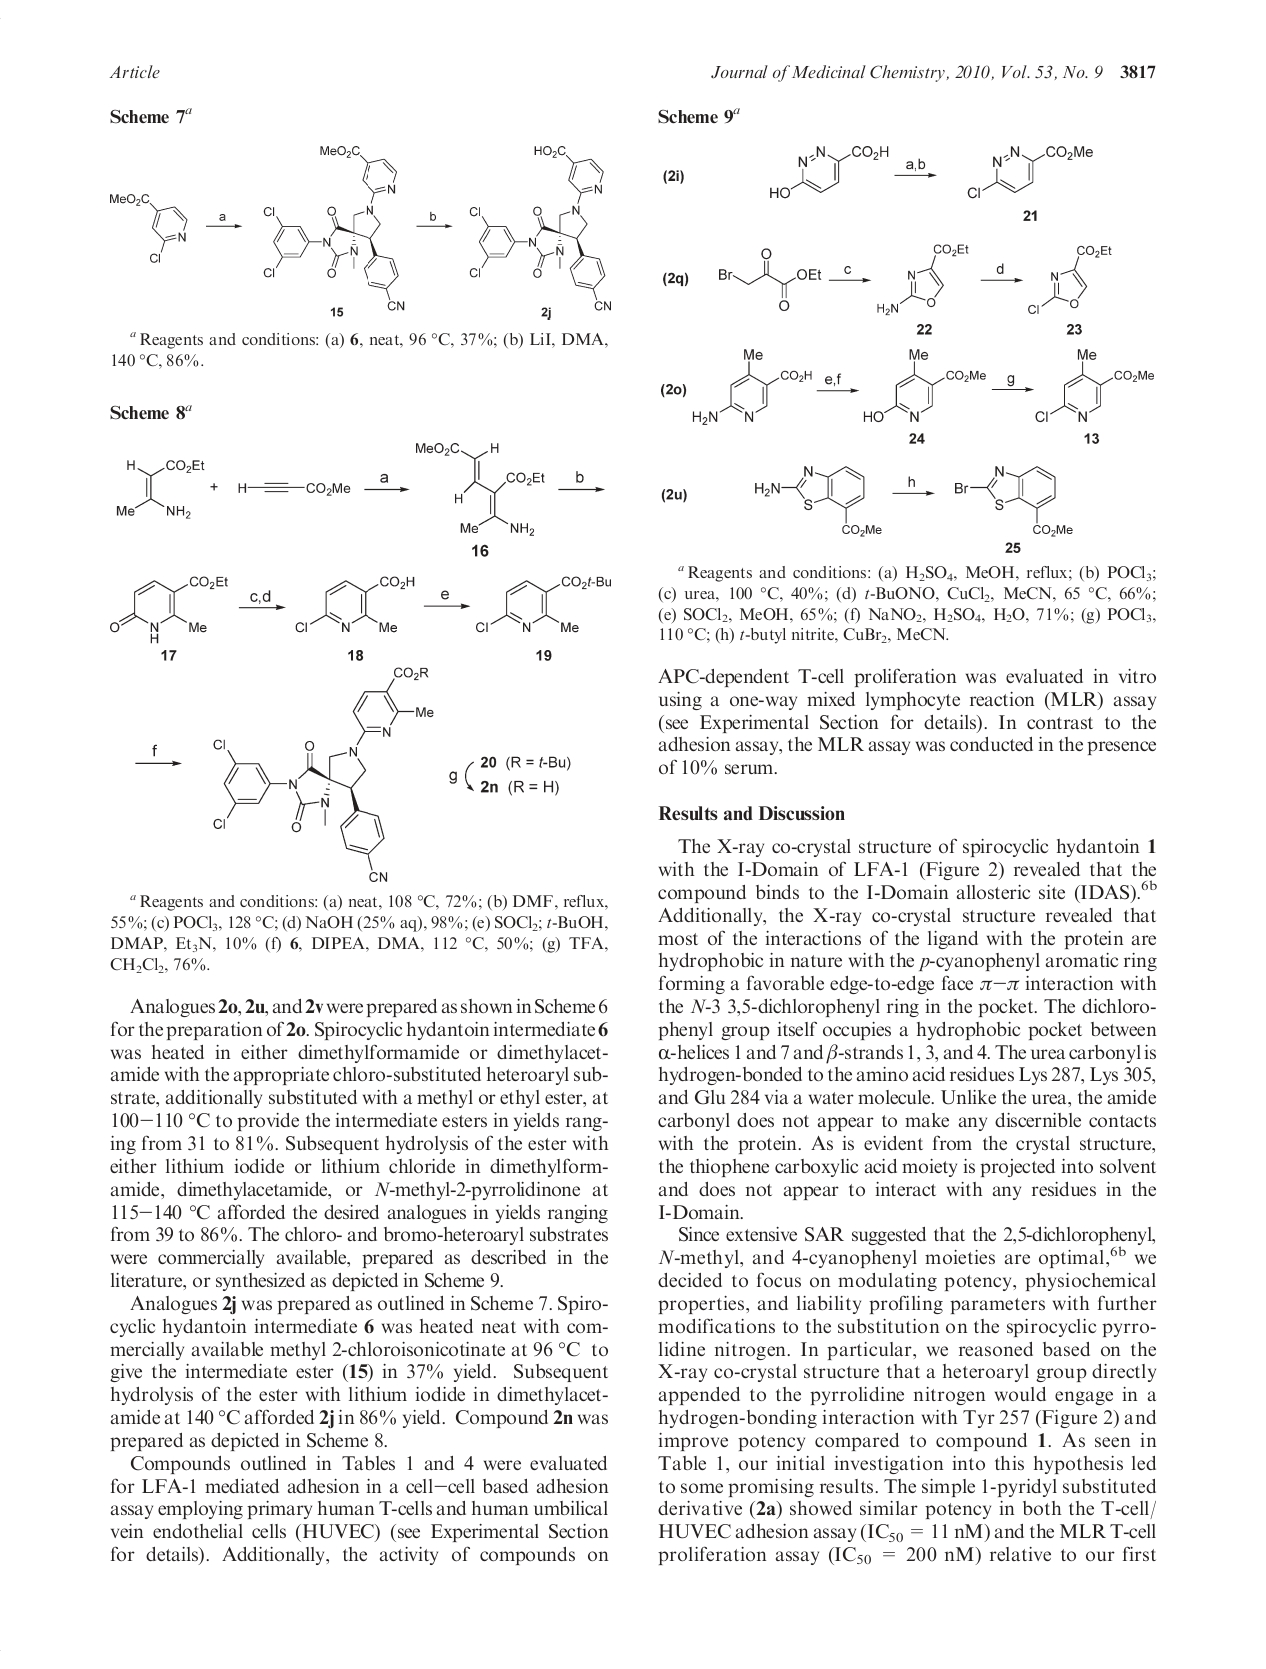exist_molecular: (211, 665, 434, 884), (465, 144, 614, 310), (263, 144, 408, 310), (412, 440, 547, 535), (689, 343, 815, 428), (1035, 344, 1156, 426), (755, 461, 884, 537), (863, 348, 987, 426), (953, 461, 1075, 537), (473, 575, 614, 634), (965, 140, 1098, 202), (294, 573, 419, 638), (872, 235, 972, 317), (110, 575, 231, 641), (767, 140, 892, 201), (718, 243, 822, 311), (1027, 241, 1114, 314), (106, 190, 189, 265), (116, 456, 207, 519)
